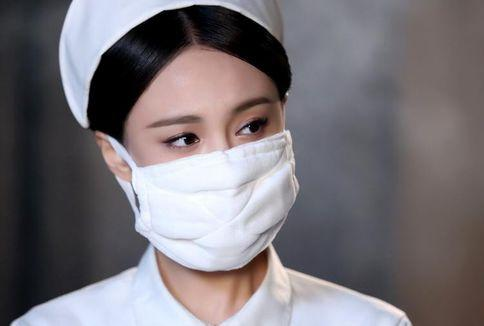OK: (129, 93, 293, 271)
